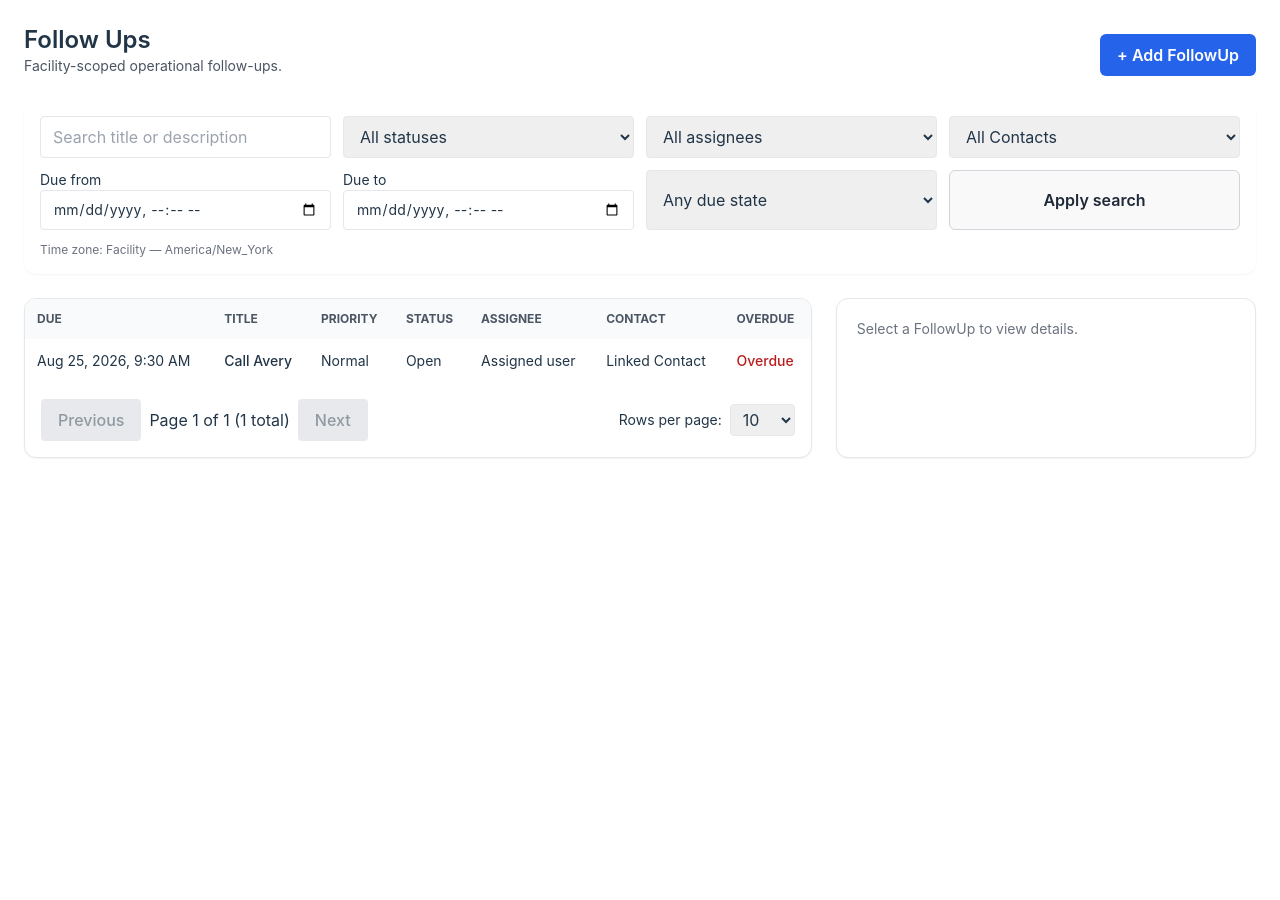
FollowUpsPage › ignores stale assignee and Contact options and clears confirmation state
Click the text "Call Avery" at (261,361), box x1=212 y1=339 x2=309 y2=383
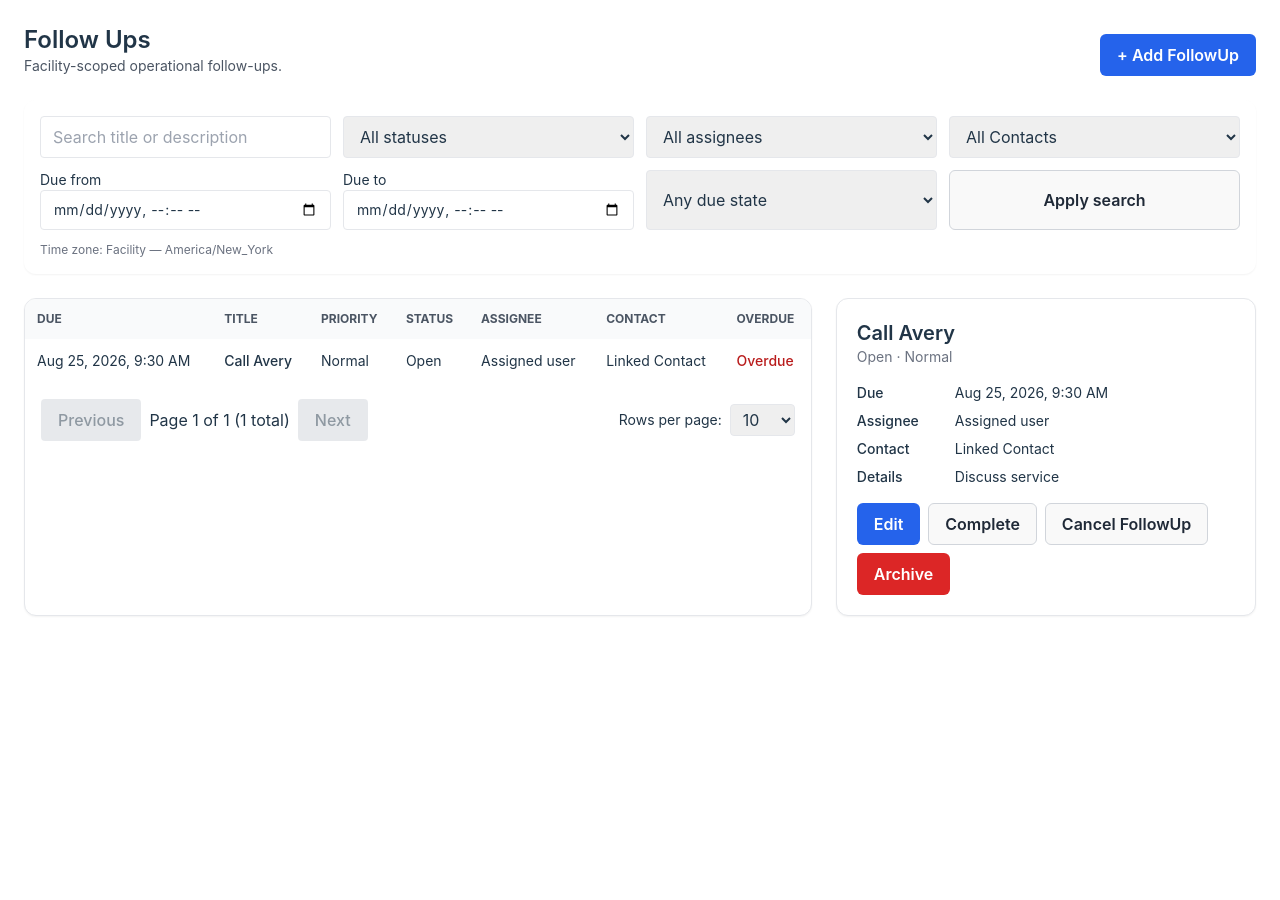
Click the button "Complete" at (983,524), box x1=928 y1=503 x2=1037 y2=545
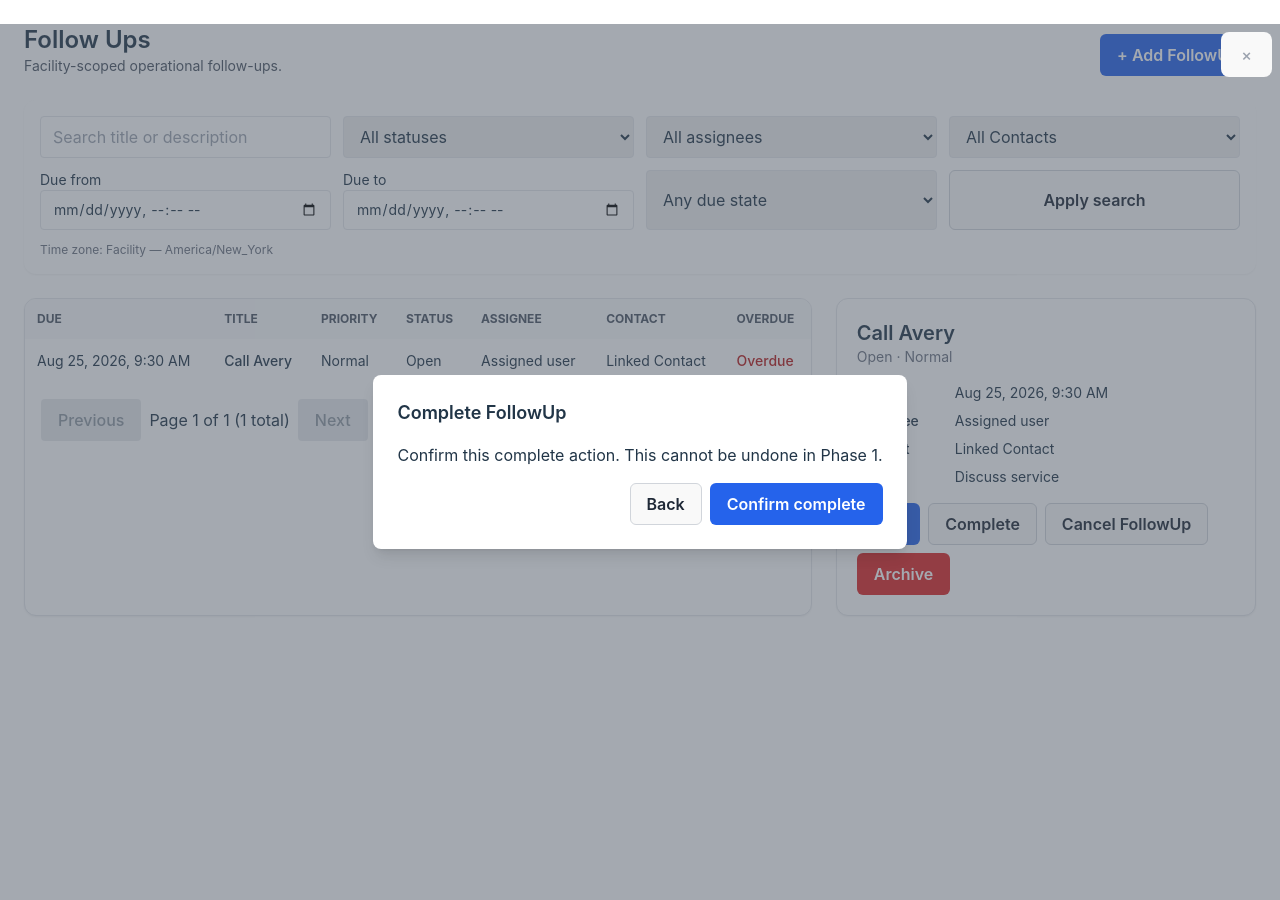
Check: the text "cannot be undone" is shown, box x1=564 y1=445 x2=882 y2=465
